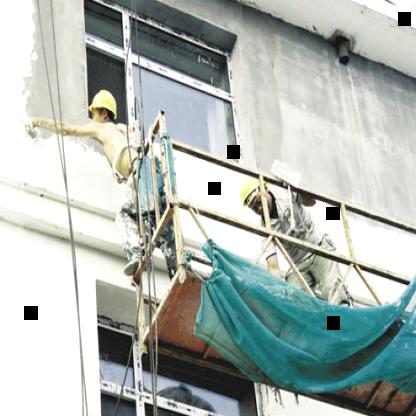helmet: (238, 174, 274, 219), (88, 88, 118, 134)
